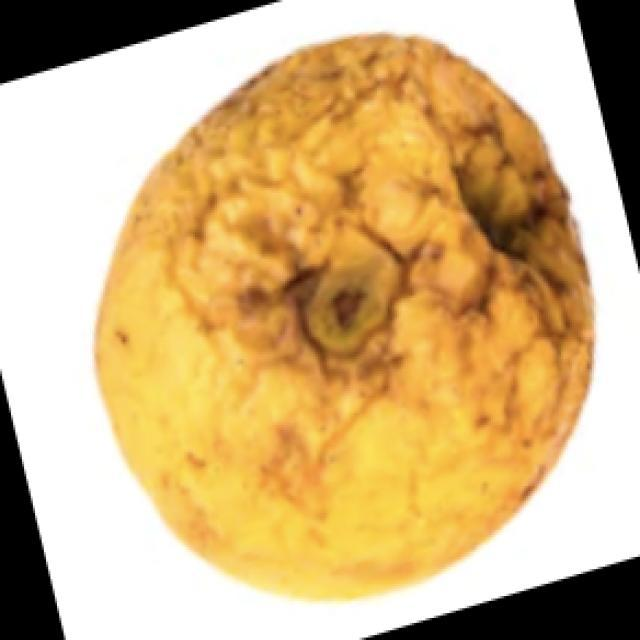Rotten: (100, 35, 573, 598)
